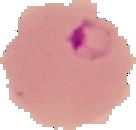parasitized: (62, 17, 119, 65)
